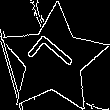L_SE: (25, 31, 82, 88)
